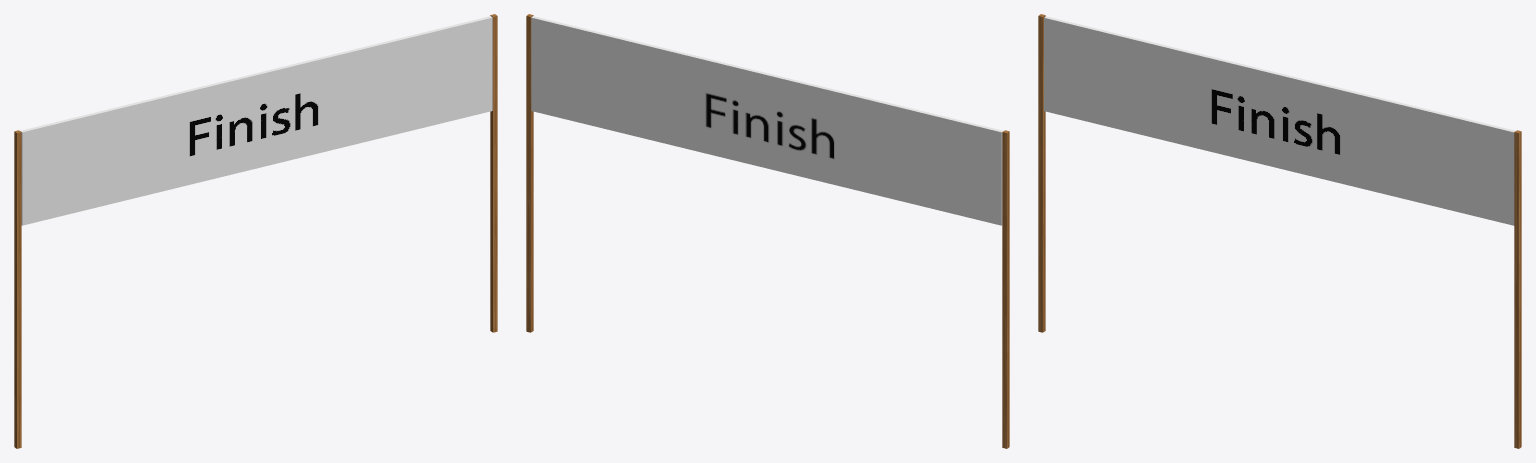
File: Finish Line.fbx
3 renders of one model, left to right at view 1: azimuth 30°, elevation 25°; view 2: azimuth 150°, elevation 25°; view 3: azimuth 330°, elevation 25°, orthographic.
Parts seen in each view (by area): view 1: pCube4, pCube2, pCube3; view 2: pCube4, pCube2, pCube3; view 3: pCube4, pCube3, pCube2.
Part boxes in pixels (x1,y1,x2,y2): pCube4: (20,16,492,225); pCube2: (14,130,21,448); pCube3: (490,14,497,332); pCube4: (531,16,1003,225); pCube2: (1002,130,1009,448); pCube3: (526,14,533,332); pCube4: (1044,16,1515,225); pCube3: (1514,130,1521,448); pCube2: (1038,14,1045,332).
Bounding box in the file's own units: 297 × 187 × 2.85.
2 materials, 2 textured.
